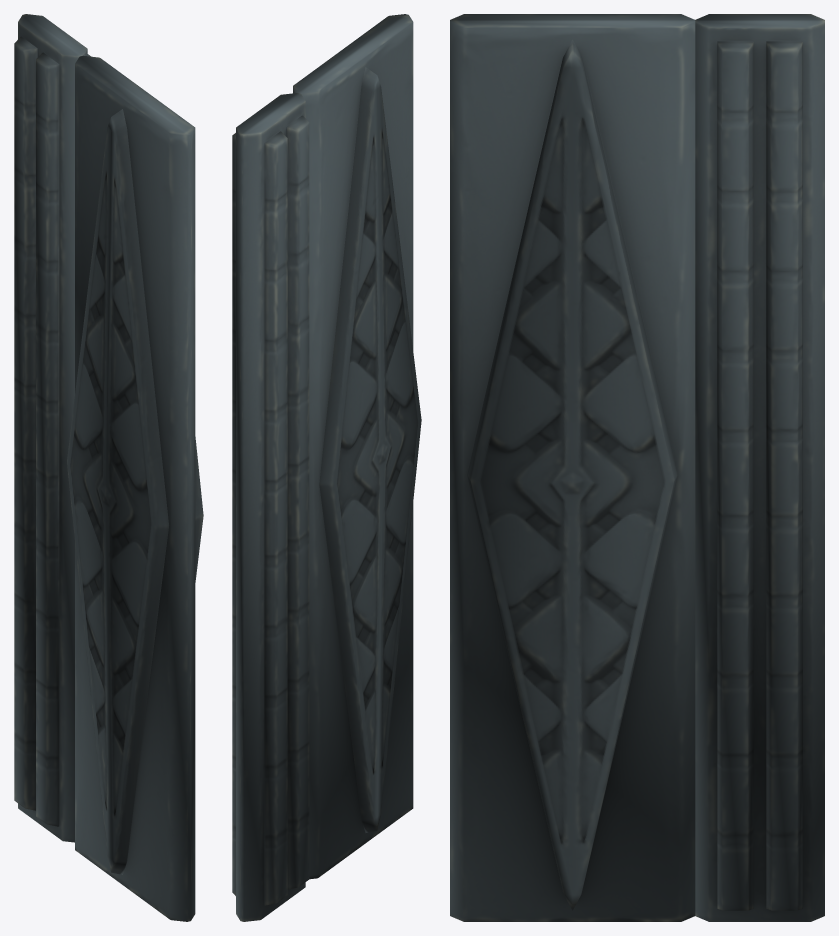
Rendered from ProjectRG_Environment_RuinsWall_Var3.fbx.
The picture shows the model from 3 angles, left to right: view 1: azimuth 30°, elevation 25°; view 2: azimuth 150°, elevation 25°; view 3: azimuth 270°, elevation 25°; orthographic projection. The views are drawn at different scales.
Visible parts, largest first — view 1: ProjectRG_Environment_RuinsWall_Var2; view 2: ProjectRG_Environment_RuinsWall_Var2; view 3: ProjectRG_Environment_RuinsWall_Var2.
Boxes of the visible parts, bbox=[...] form: ProjectRG_Environment_RuinsWall_Var2: bbox=[14, 14, 203, 921]; ProjectRG_Environment_RuinsWall_Var2: bbox=[232, 14, 421, 921]; ProjectRG_Environment_RuinsWall_Var2: bbox=[450, 14, 824, 921].
Size of the model in its own units: 300 by 3795 by 1441.
